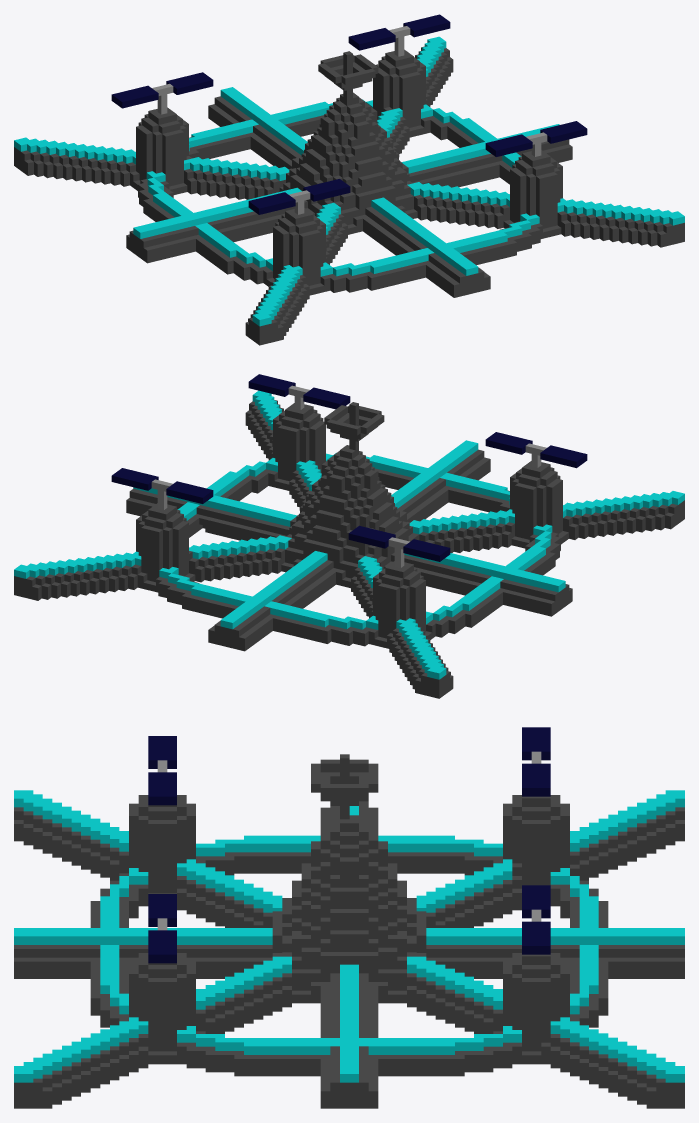
The picture shows the model from 3 angles, top to bottom: view 1: azimuth 30°, elevation 25°; view 2: azimuth 150°, elevation 25°; view 3: azimuth 270°, elevation 25°; orthographic projection. The views are drawn at different scales.
Parts seen in each view (by area): view 1: Base; view 2: Base; view 3: Base.
Part boxes in pixels (box(x1,y1,x2,y2)): Base: box(14, 14, 684, 345); Base: box(14, 374, 684, 698); Base: box(14, 727, 684, 1108).
Bounding box in the file's own units: 700 × 240 × 700.
